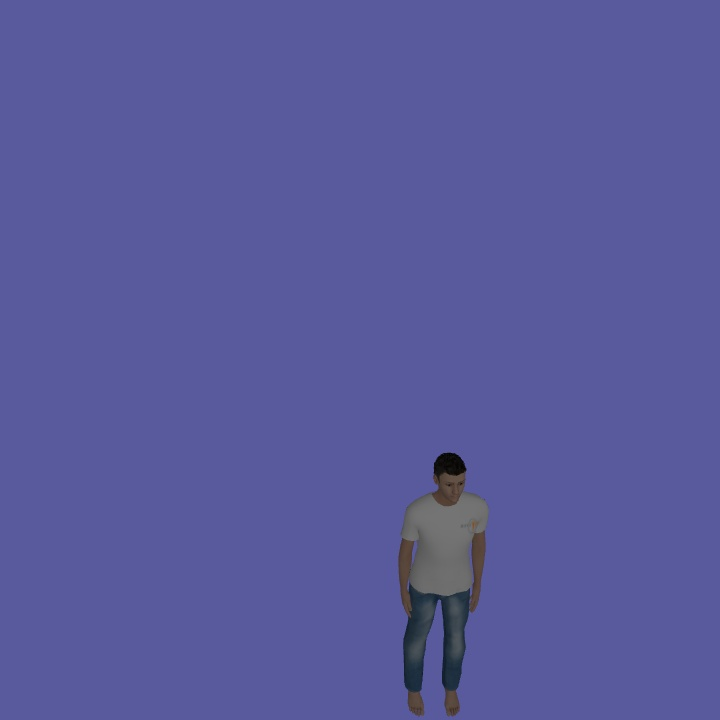victim: (397, 451, 492, 717)
